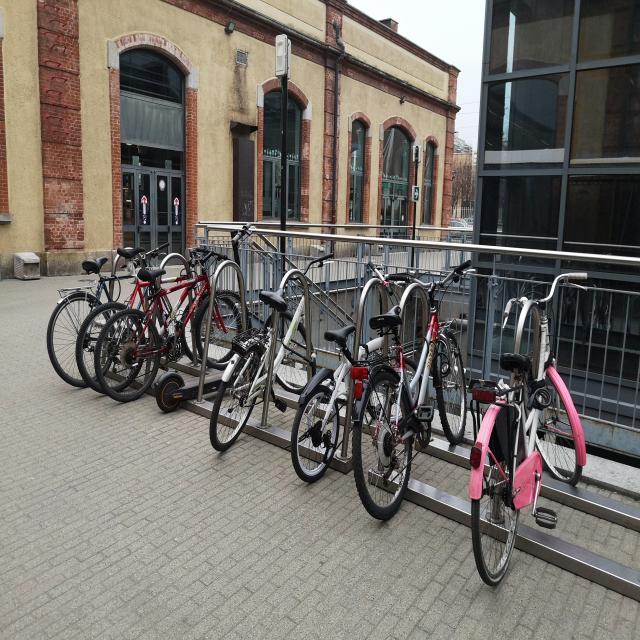Bicycle: (440, 246, 600, 565), (348, 243, 487, 520), (203, 269, 314, 436), (44, 227, 149, 384), (299, 329, 399, 474), (115, 264, 220, 386), (213, 234, 257, 396)
